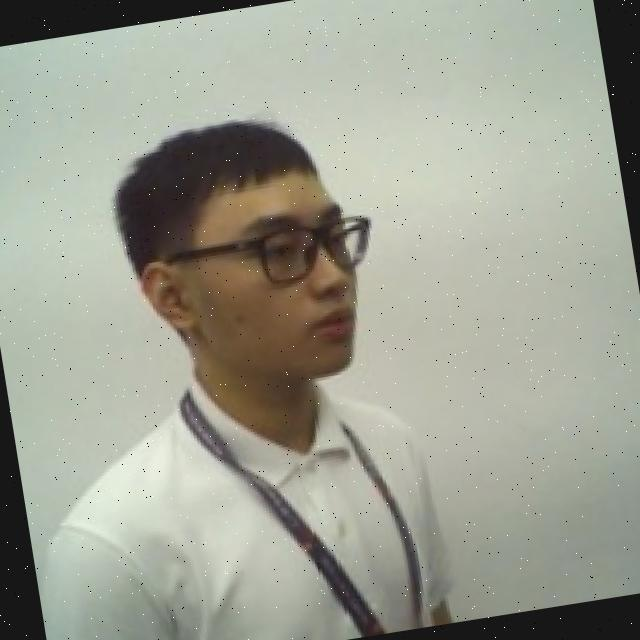no_gloves: (101, 106, 353, 270)
no_hairnet: (134, 228, 381, 422)
